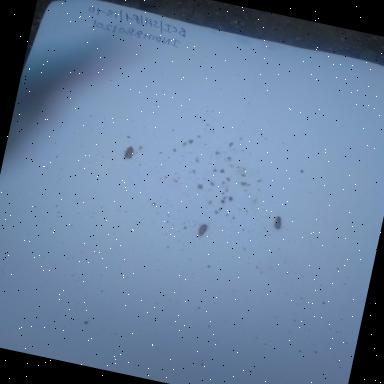pbw: (192, 217, 218, 243), (118, 142, 142, 164), (269, 212, 289, 232)
